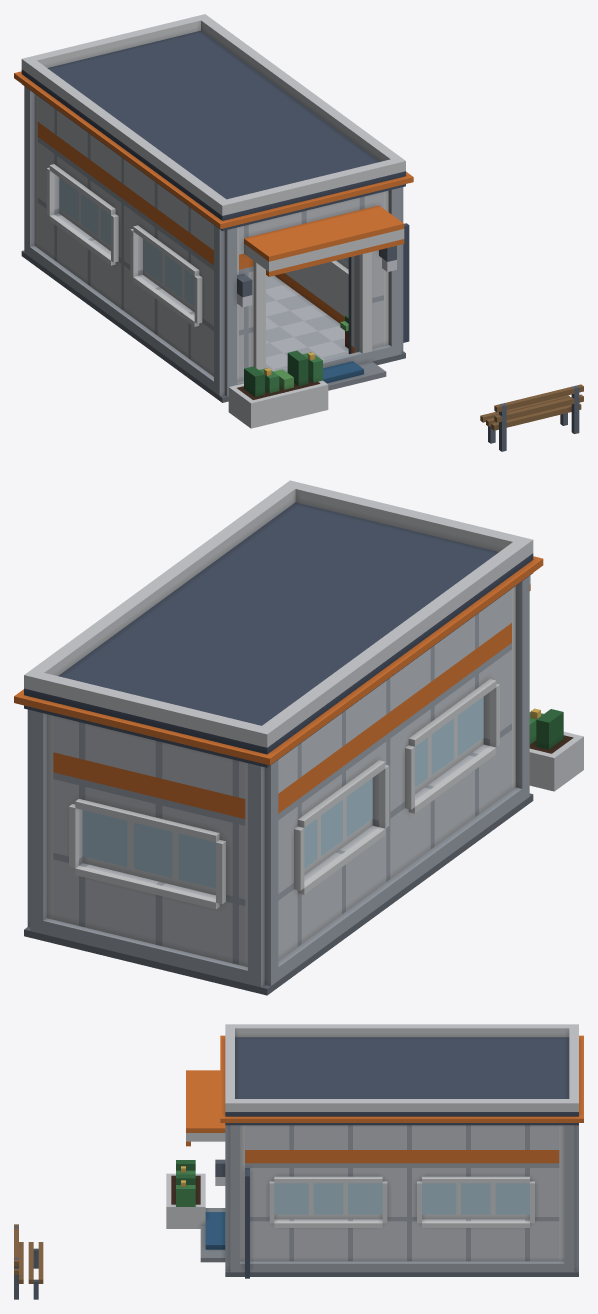
3 views of the same model, one above another, from view 1: azimuth 30°, elevation 25°; view 2: azimuth 150°, elevation 25°; view 3: azimuth 270°, elevation 25° (orthographic). The views are drawn at different scales.
Parts seen in each view (by area): view 1: CutRoof, Base, CutNX, CutPZ, CutNZ; view 2: CutRoof, Base, CutNZ, CutNX, CutPZ; view 3: CutRoof, CutPX, Base, CutPZ, CutNZ.
Part boxes in pixels (box(x1,y1,x2,y2)): CutRoof: box(14, 14, 413, 230); Base: box(21, 207, 583, 451); CutNX: box(37, 96, 213, 341); CutPZ: box(214, 187, 409, 351); CutNZ: box(24, 86, 37, 211); CutRoof: box(14, 480, 543, 767); Base: box(24, 708, 583, 995); CutNZ: box(27, 709, 278, 926); CutNX: box(278, 589, 511, 913); CutPZ: box(512, 575, 530, 742); CutRoof: box(220, 1024, 583, 1125); CutPX: box(245, 1125, 559, 1230); Base: box(14, 1160, 578, 1299); CutPZ: box(186, 1070, 249, 1238); CutNZ: box(559, 1125, 578, 1232).
Bounding box in the file's own units: 5.1 × 3.9 × 11.6.
